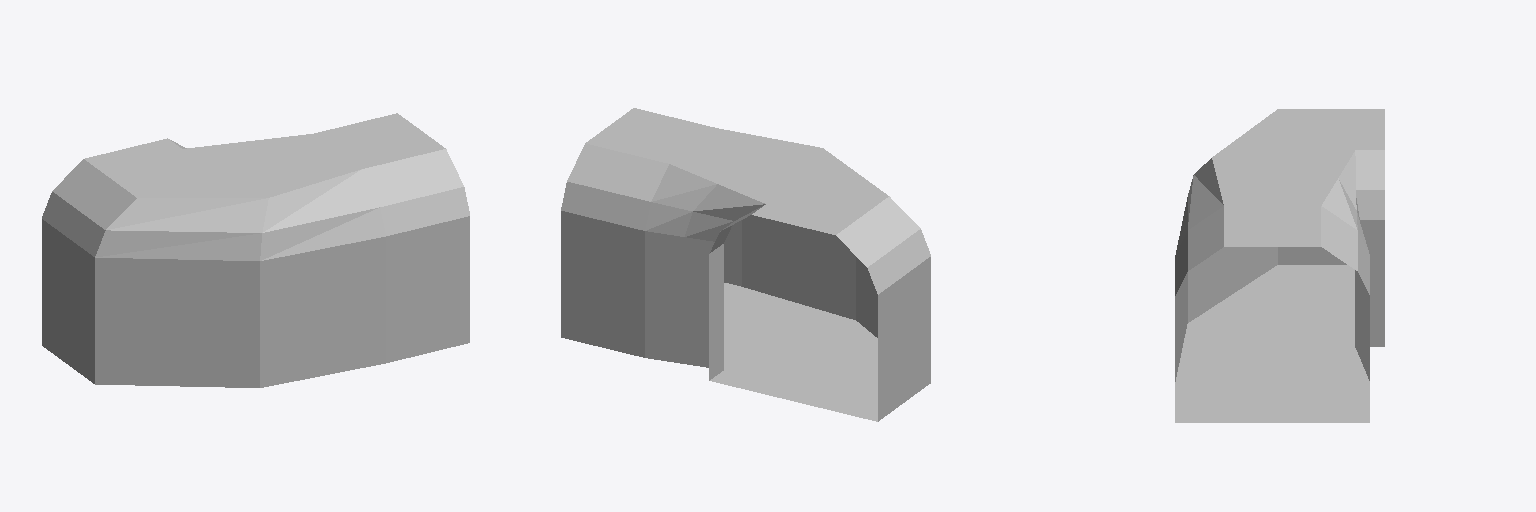
File: corridor_turn_right.obj
The picture shows the model from 3 angles: view 1: azimuth 30°, elevation 25°; view 2: azimuth 150°, elevation 25°; view 3: azimuth 270°, elevation 25°; orthographic projection.
Parts seen in each view (by area): view 1: Cube; view 2: Cube; view 3: Cube.
Boxes of the visible parts, x1=… form: Cube: x1=42, y1=113, x2=469, y2=387; Cube: x1=561, y1=108, x2=930, y2=421; Cube: x1=1175, y1=109, x2=1384, y2=422.
Bounding box in the file's own units: 19.25 × 10 × 10.75.